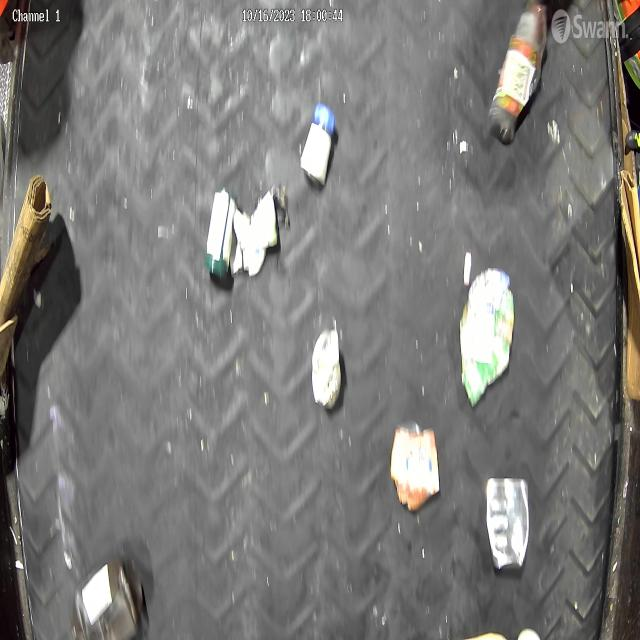can: (390, 422, 441, 512), (485, 476, 530, 572)
non_white_jug: (458, 269, 514, 406)
